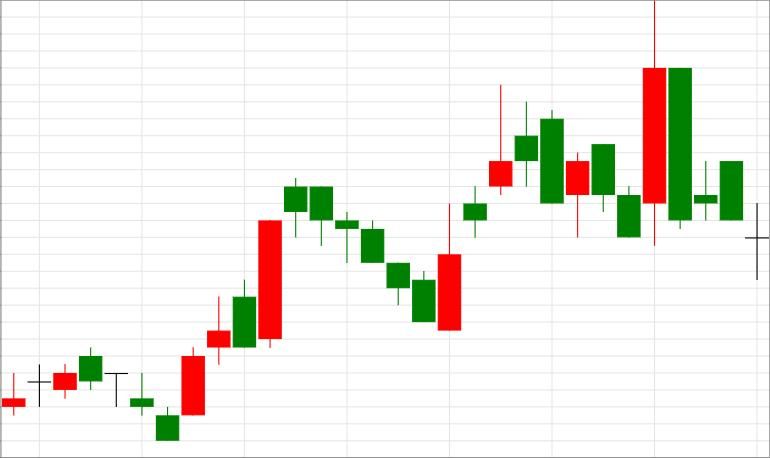bullish_engulfing_rise: (284, 177, 461, 331)
shooting_star_fall: (411, 85, 513, 331)
